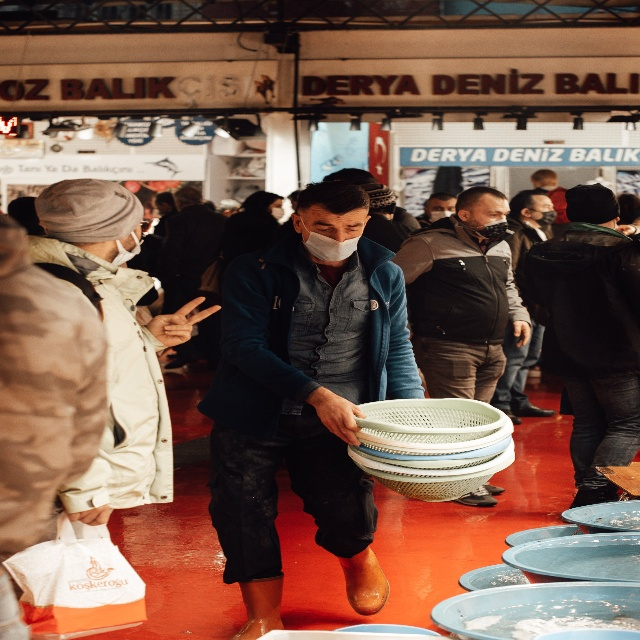Mascara: (300, 222, 361, 263), (111, 229, 143, 265), (460, 217, 507, 239), (526, 207, 557, 227), (427, 210, 454, 224), (270, 206, 284, 220)
Sin_guantes: (145, 296, 221, 347), (315, 391, 368, 446), (68, 505, 112, 527), (512, 320, 531, 348), (616, 224, 635, 236)
